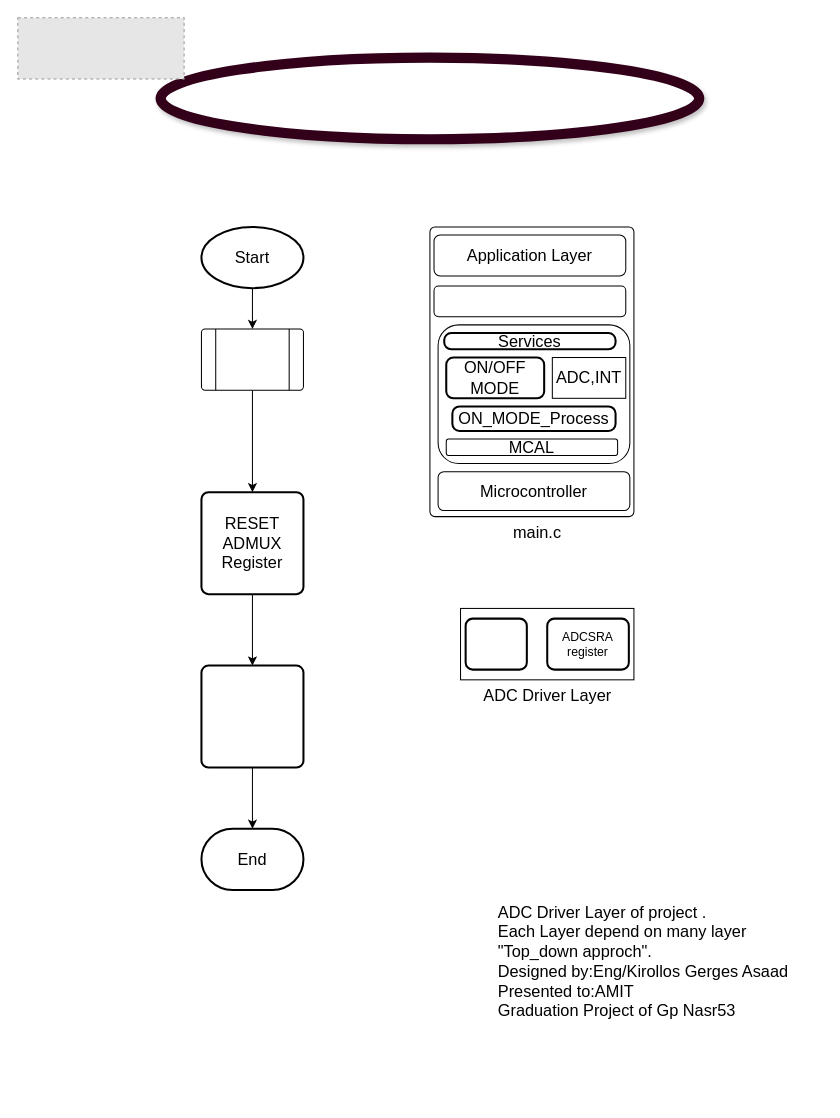
This 840x1118 diagram has some shape labels left out. Grey dashed boxes stand in for pictures. The shapes that lost their labels are listed below. From the top down, each one's centre as x and y in pixels, then its label:
At (430,99): "Initializtion Internal Timer Interrupt Driver".
At (529,301): "RTE".
At (251,359): "Void ADC_init (void)".
At (495,643): "ADMUX Register".
At (252,716): "SET BIT 7,1,0 in ADCSRA register".
